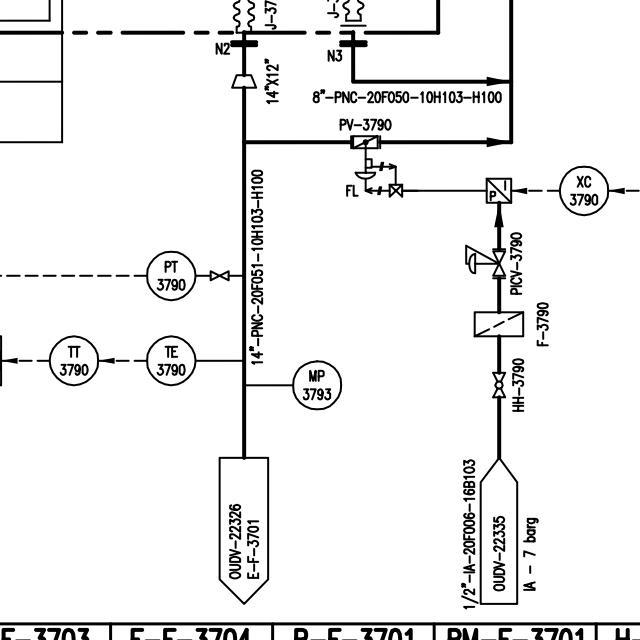BV2: (489, 368, 510, 401)
EPA: (480, 173, 516, 208)
F2: (470, 307, 529, 340)
GV: (207, 267, 231, 284)
PCV: (460, 241, 508, 281)
SP: (227, 72, 259, 90)
